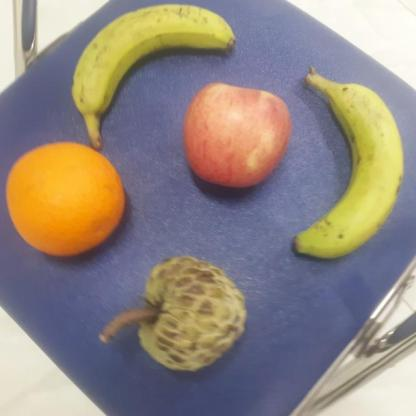annona: (136, 256, 250, 376)
apple: (180, 82, 294, 190)
banana: (67, 0, 239, 122), (306, 67, 404, 260)
orange: (1, 139, 134, 257)
